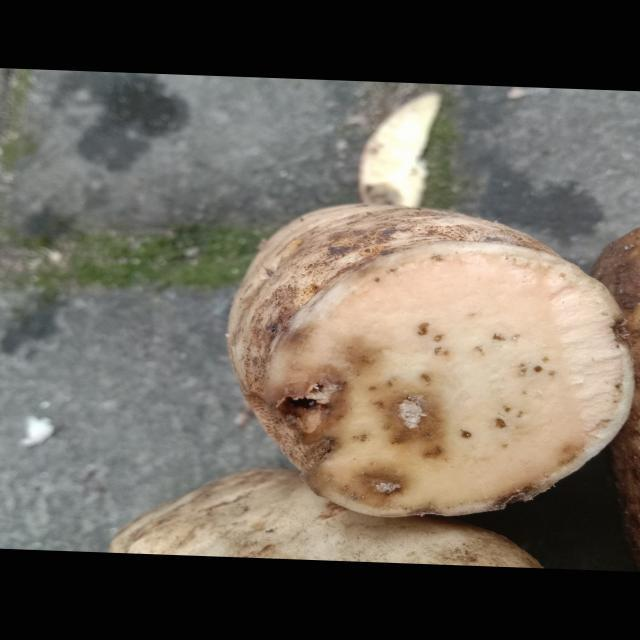Sick Sweet Potato_Tuber Rot: (262, 242, 633, 516)
